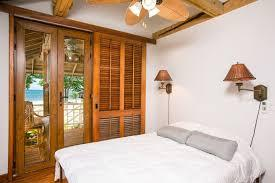bed: (51, 116, 268, 182)
door: (11, 14, 52, 181), (56, 29, 91, 146), (89, 35, 124, 142), (122, 37, 147, 135)
fan: (84, 0, 194, 28)
light: (221, 58, 259, 101), (154, 65, 178, 127), (122, 0, 165, 31)
